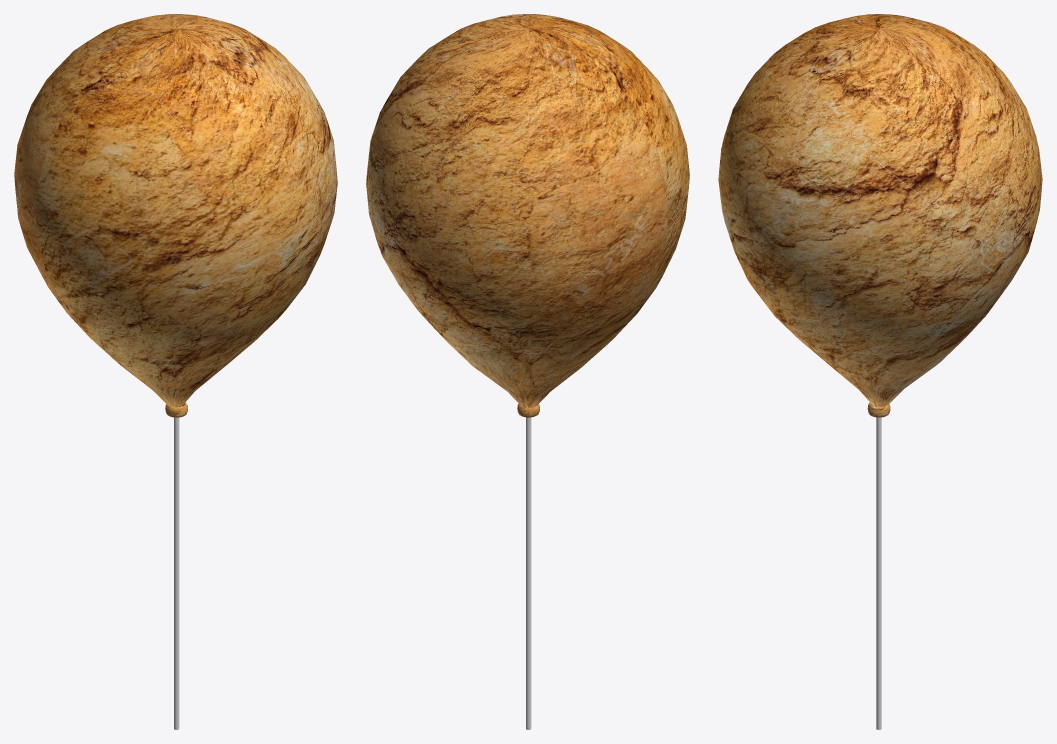
File: balloon_yellow_2.glb
3 renders of one model, left to right at view 1: azimuth 30°, elevation 25°; view 2: azimuth 150°, elevation 25°; view 3: azimuth 270°, elevation 25°, orthographic.
Parts seen in each view (by area): view 1: Sphere.007, Cylinder.007; view 2: Sphere.007, Cylinder.007; view 3: Sphere.007, Cylinder.007.
Boxes of the visible parts, box(x1,y1,x2,y2) form: Sphere.007: box(14, 14, 337, 407); Cylinder.007: box(174, 417, 179, 729); Sphere.007: box(366, 14, 689, 407); Cylinder.007: box(526, 417, 531, 729); Sphere.007: box(718, 14, 1042, 407); Cylinder.007: box(876, 417, 881, 729).
Size of the model in its own units: 2 by 4.76 by 2.
2 materials, 2 textured.
